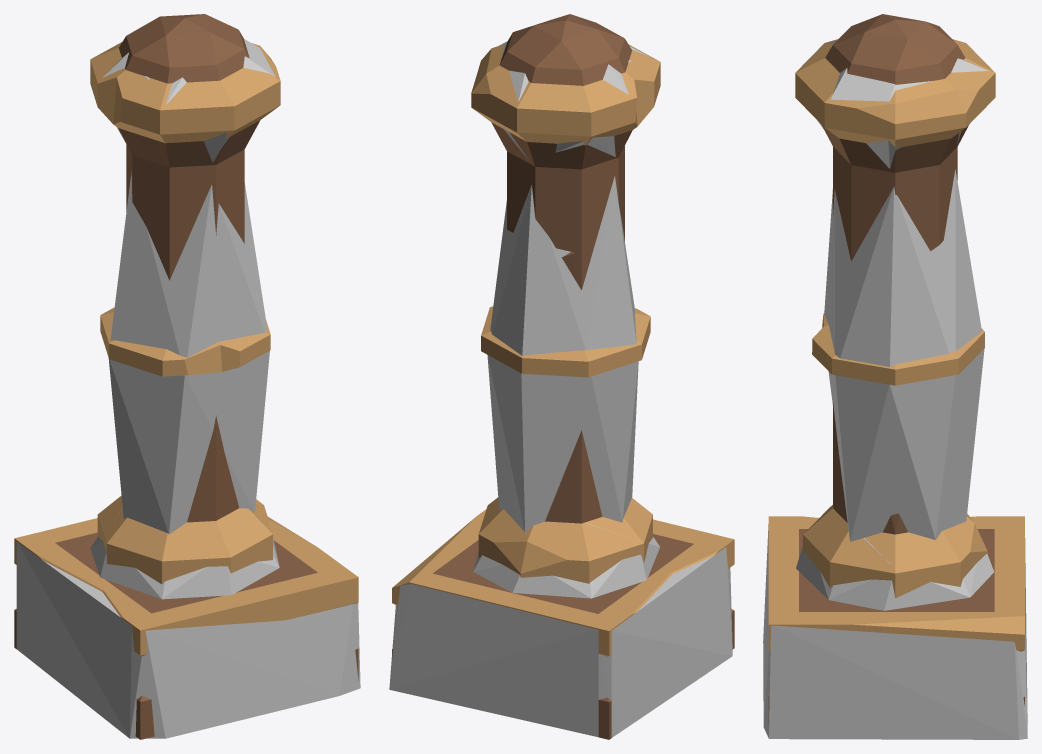
File: SM_Prop_Dock_Pole_01.fbx
The picture shows the model from 3 angles, left to right: view 1: azimuth 30°, elevation 25°; view 2: azimuth 150°, elevation 25°; view 3: azimuth 270°, elevation 25°; orthographic projection. The views are drawn at different scales.
Parts seen in each view (by area): view 1: SM_Prop_Dock_Pole_01_ConvexHulls, SM_Prop_Dock_Pole_01; view 2: SM_Prop_Dock_Pole_01_ConvexHulls, SM_Prop_Dock_Pole_01; view 3: SM_Prop_Dock_Pole_01_ConvexHulls, SM_Prop_Dock_Pole_01.
Part boxes in pixels (x1,y1,x2,y2): SM_Prop_Dock_Pole_01_ConvexHulls: (16, 39, 360, 738); SM_Prop_Dock_Pole_01: (14, 14, 358, 739); SM_Prop_Dock_Pole_01_ConvexHulls: (389, 41, 732, 737); SM_Prop_Dock_Pole_01: (392, 14, 734, 739); SM_Prop_Dock_Pole_01_ConvexHulls: (763, 40, 1027, 739); SM_Prop_Dock_Pole_01: (768, 14, 1024, 724).
Bounding box in the file's own units: 38.6 × 38.38 × 106.
Materials: 2 (1 with a texture image).
